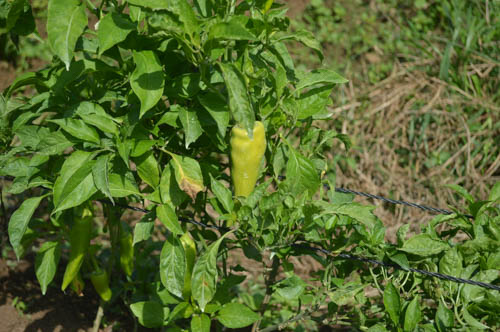ChiliPepper: (228, 123, 265, 196), (61, 209, 92, 288), (89, 272, 114, 302), (118, 233, 136, 273)
